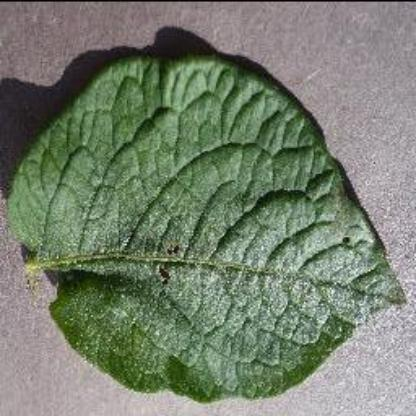Healthy-plant: (10, 46, 408, 404)
